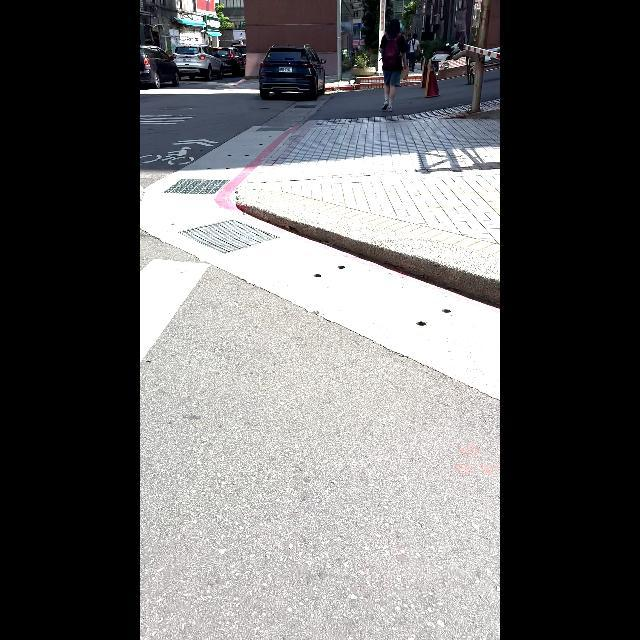sidewalk: (143, 260, 205, 361)
